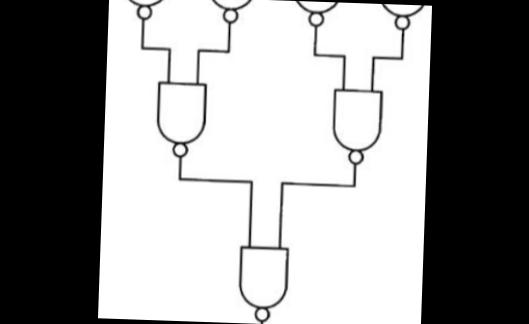nand: (143, 78, 212, 160), (229, 237, 294, 324), (323, 84, 388, 166), (368, 4, 428, 30), (287, 0, 346, 26), (198, 0, 261, 22), (111, 0, 175, 21)
